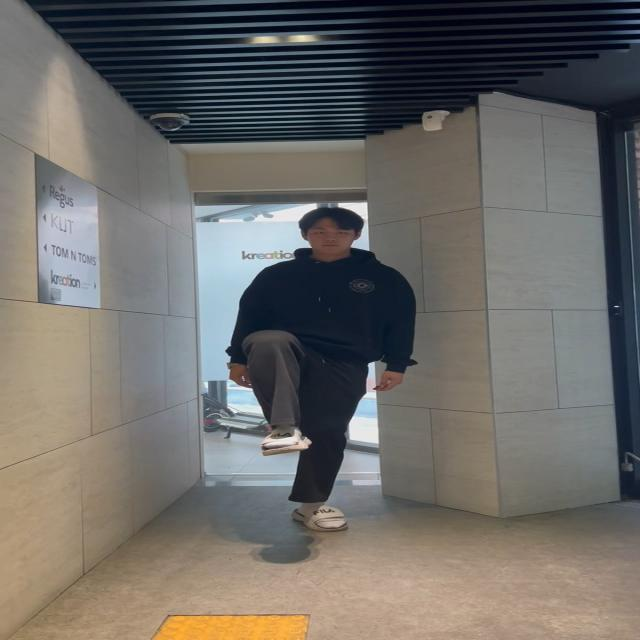knee: (218, 318, 326, 465)
